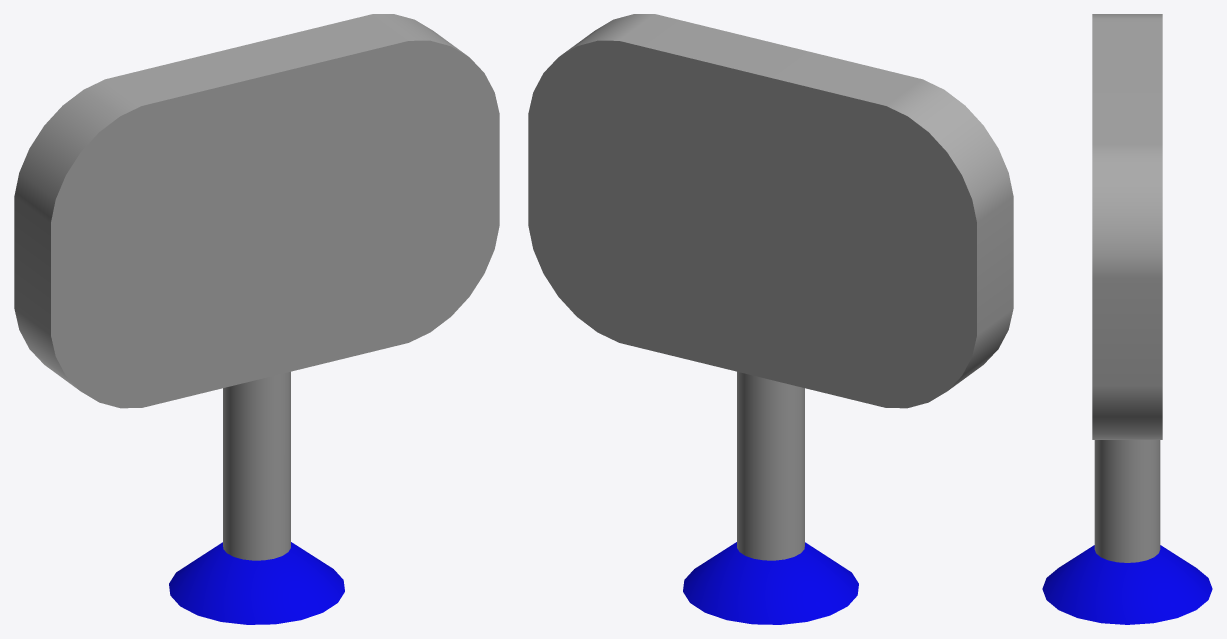
The model's file is ShopSign.fbx.
3 renders of one model, left to right at view 1: azimuth 30°, elevation 25°; view 2: azimuth 150°, elevation 25°; view 3: azimuth 270°, elevation 25°, orthographic. The views are drawn at different scales.
Parts seen in each view (by area): view 1: polySurface3, polySurface1, polySurface2; view 2: polySurface3, polySurface1, polySurface2; view 3: polySurface3, polySurface2, polySurface1.
Part boxes in pixels (x1,y1,x2,y2): polySurface3: [14, 14, 499, 408]; polySurface1: [223, 371, 290, 560]; polySurface2: [169, 542, 344, 624]; polySurface3: [528, 14, 1013, 408]; polySurface1: [737, 371, 804, 560]; polySurface2: [683, 542, 858, 624]; polySurface3: [1092, 14, 1162, 439]; polySurface2: [1042, 545, 1212, 624]; polySurface1: [1094, 440, 1160, 562].
Size of the model in its own units: 8.39 by 9.43 by 2.87.
